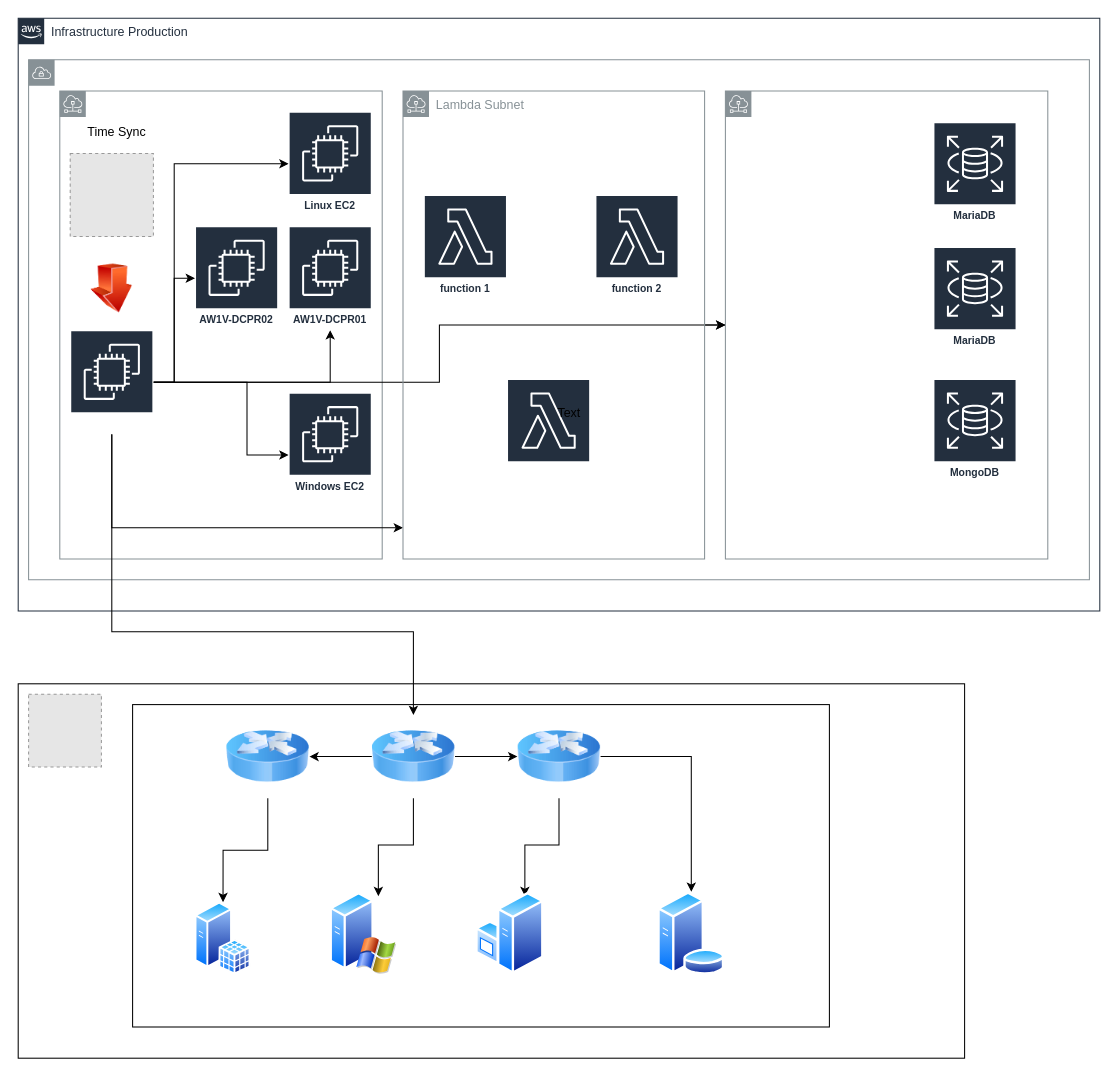
This 1118x1076 diagram has some shape labels left out. Grey dashed boxes stand in for pictures. Each missing label, with the box of its shape:
aw1v-ntppr01: (69, 329, 153, 434)
EC2 Subnet: (59, 90, 382, 559)
function 3: (506, 378, 590, 483)
RDS Subnet: (724, 90, 1048, 559)
VPC: (28, 59, 1089, 580)
